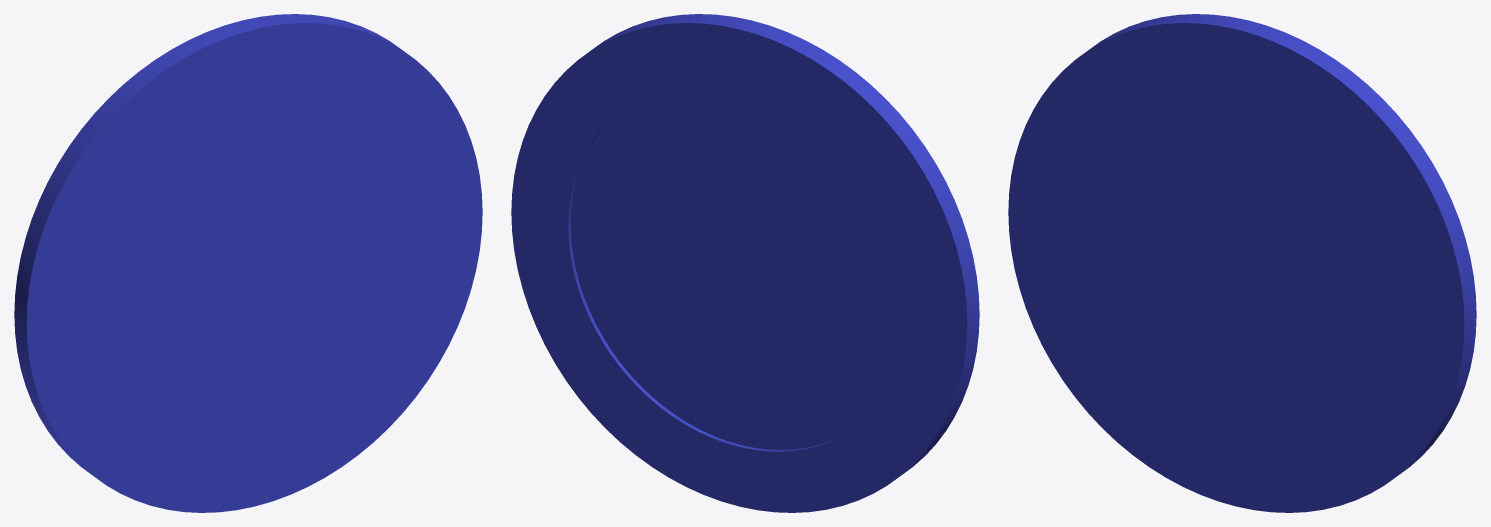
The model's file is Shield.fbx.
3 renders of one model, left to right at view 1: azimuth 30°, elevation 25°; view 2: azimuth 150°, elevation 25°; view 3: azimuth 330°, elevation 25°, orthographic.
Parts seen in each view (by area): view 1: root (×2); view 2: root (×2); view 3: root (×2).
Part boxes in pixels (x1,y1,x2,y2): root (×2): (14,14,482,512); root (×2): (511,14,979,512); root (×2): (1008,14,1476,512).
Bounding box in the file's own units: 0.3342 × 0.3342 × 0.0155.
